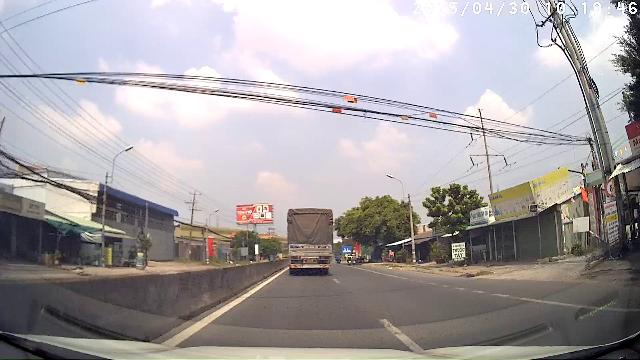420-bat-dau-khu-dong-dan-cu: (342, 246, 351, 253)
